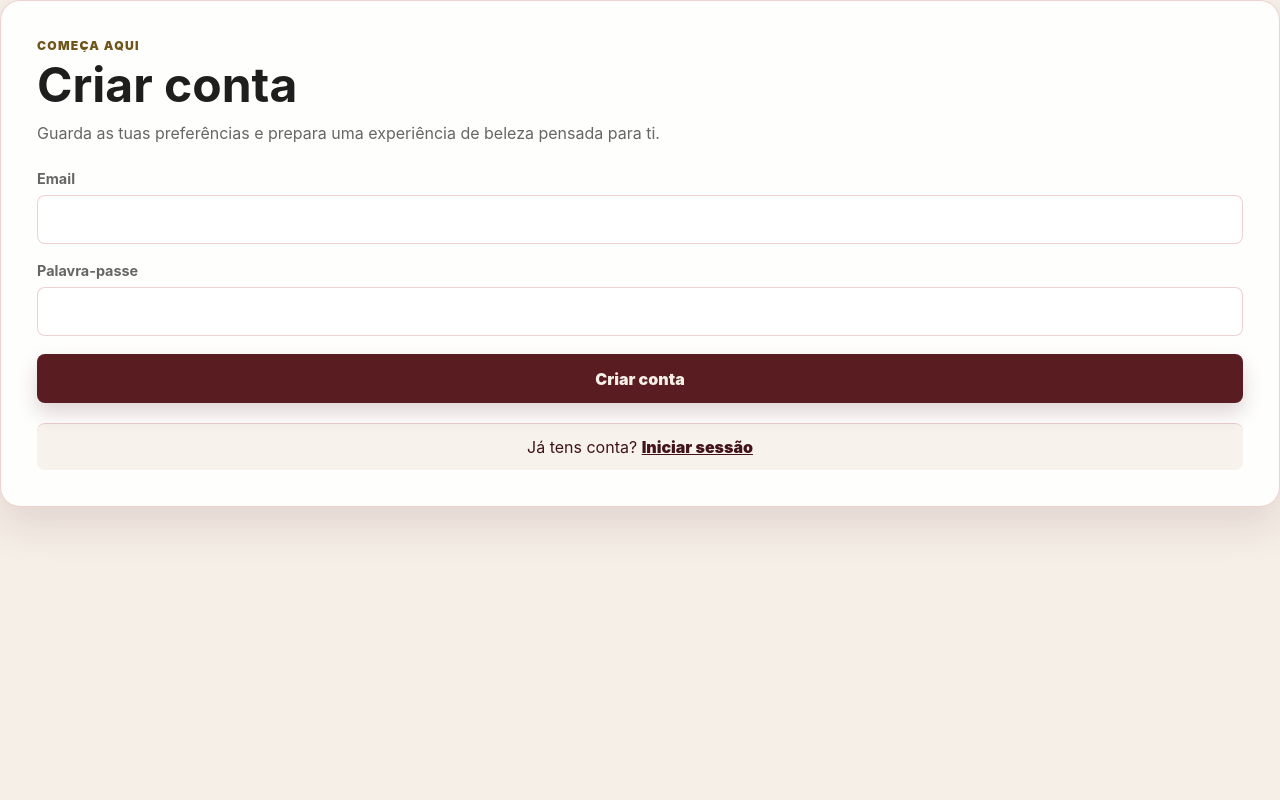
Scenario: RegisterPage › cria a conta, limpa os campos e mantém o acesso ao login
In the field labelled "Email": (640, 219) [37,195,1243,244], type "nova@example.test"
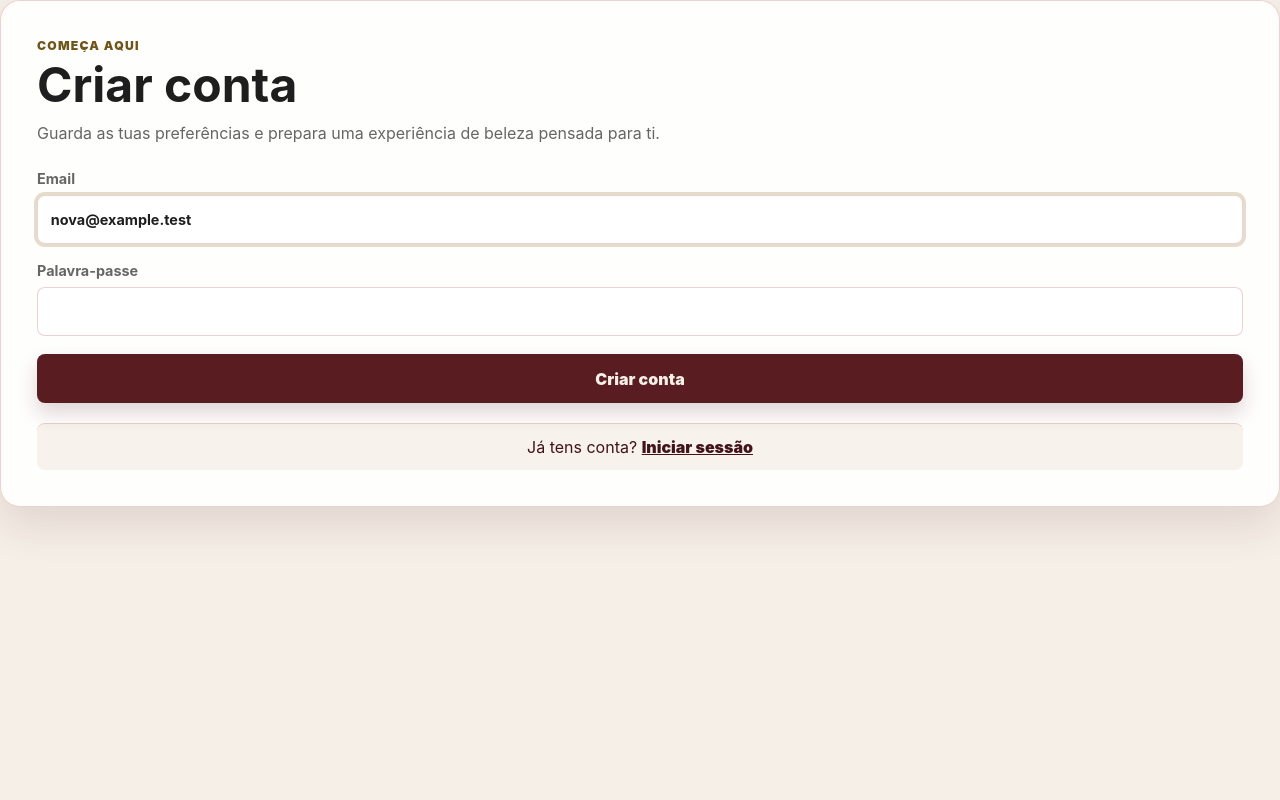
In the password field labelled "Palavra-passe": (640, 311) [37,287,1243,336], type "Segura123"
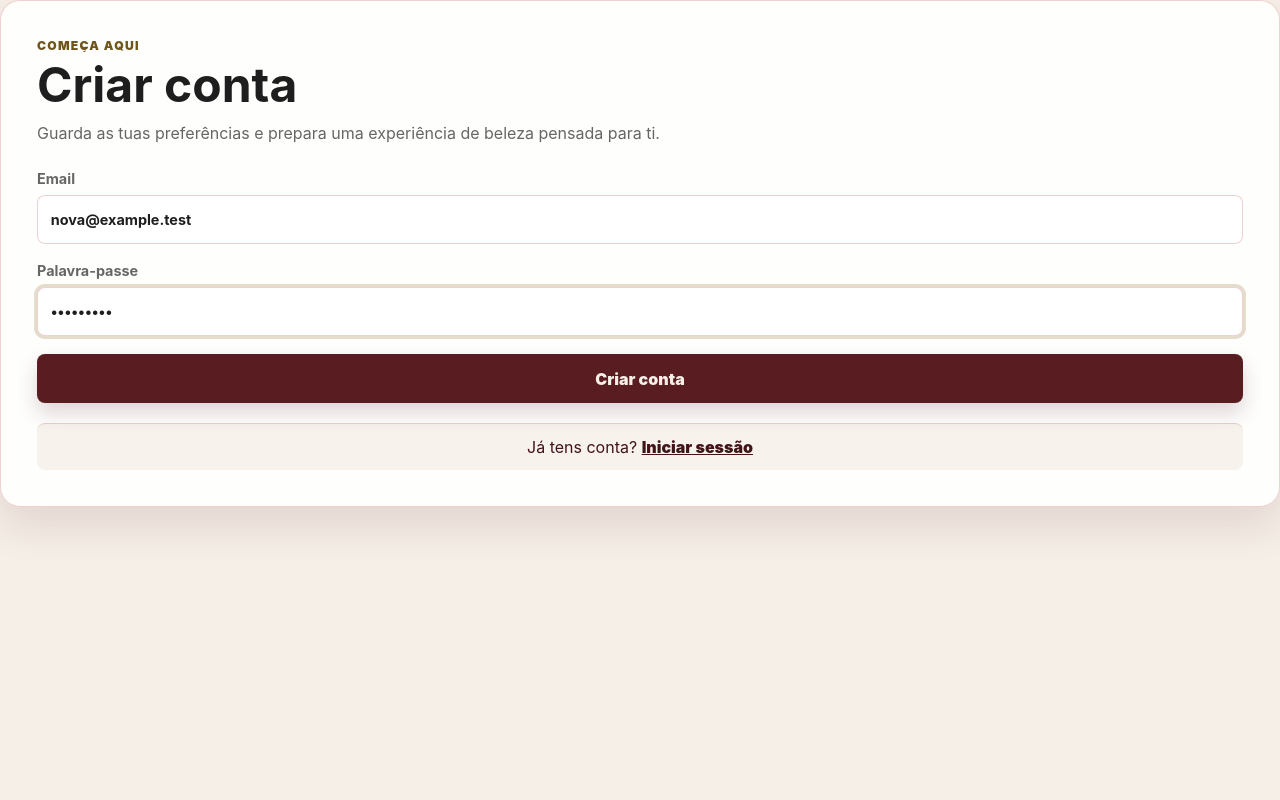
Click the button "Criar conta": (640, 379) [37,354,1243,403]
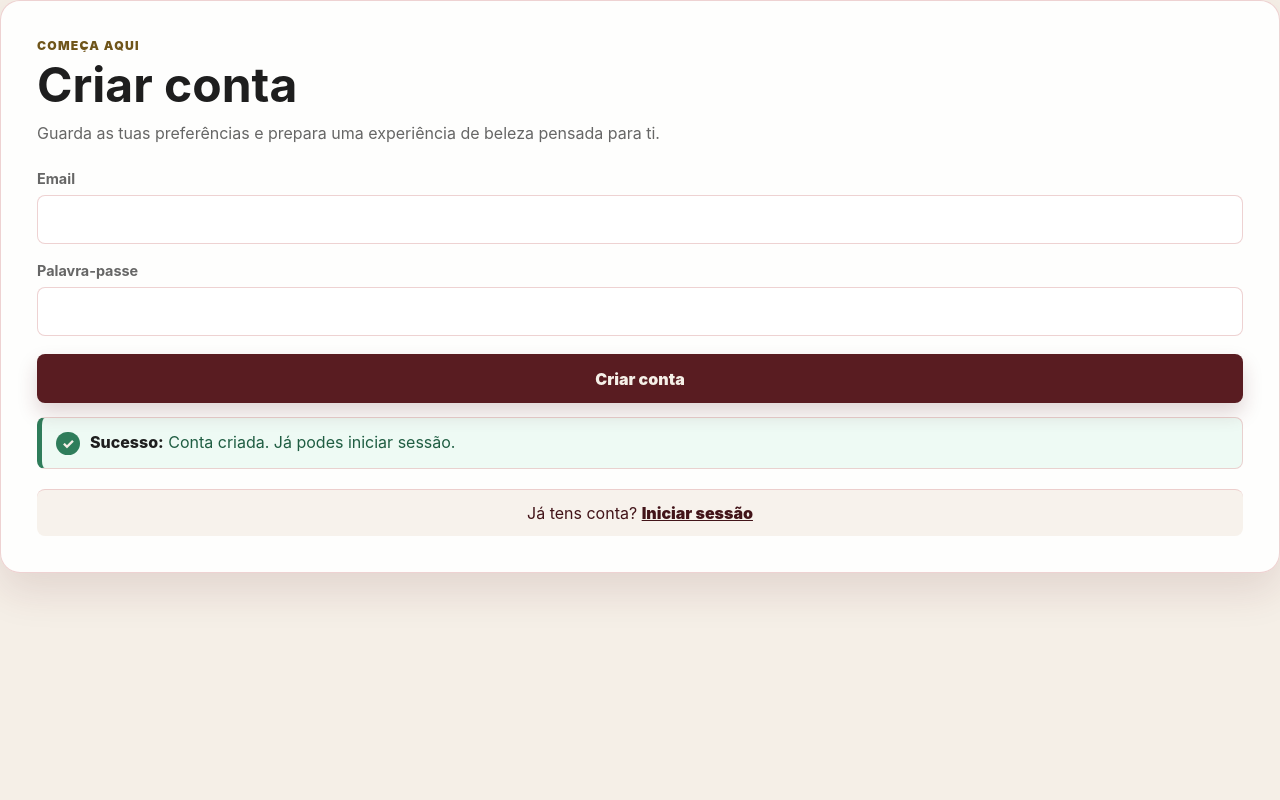
Expected: the message shows "Conta criada", [168,432,456,452]
Expected: the field labelled "Email" is empty, [37,195,1243,244]
Expected: the password field labelled "Palavra-passe" is empty, [37,287,1243,336]
